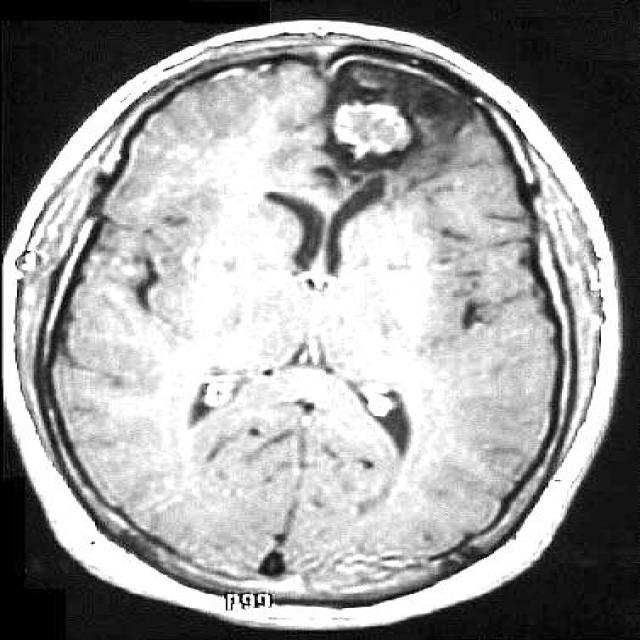Tumor-Cell: (338, 88, 413, 157)
